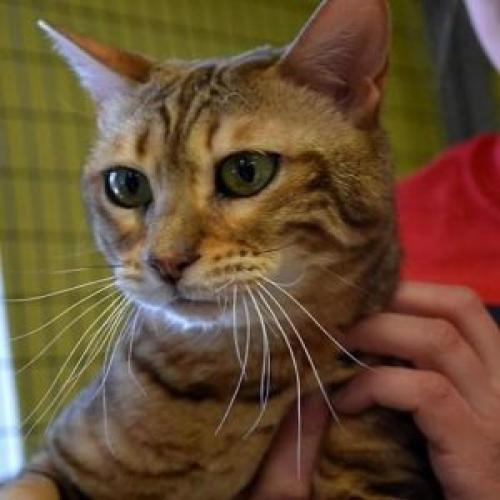bengal: (32, 1, 415, 331)
